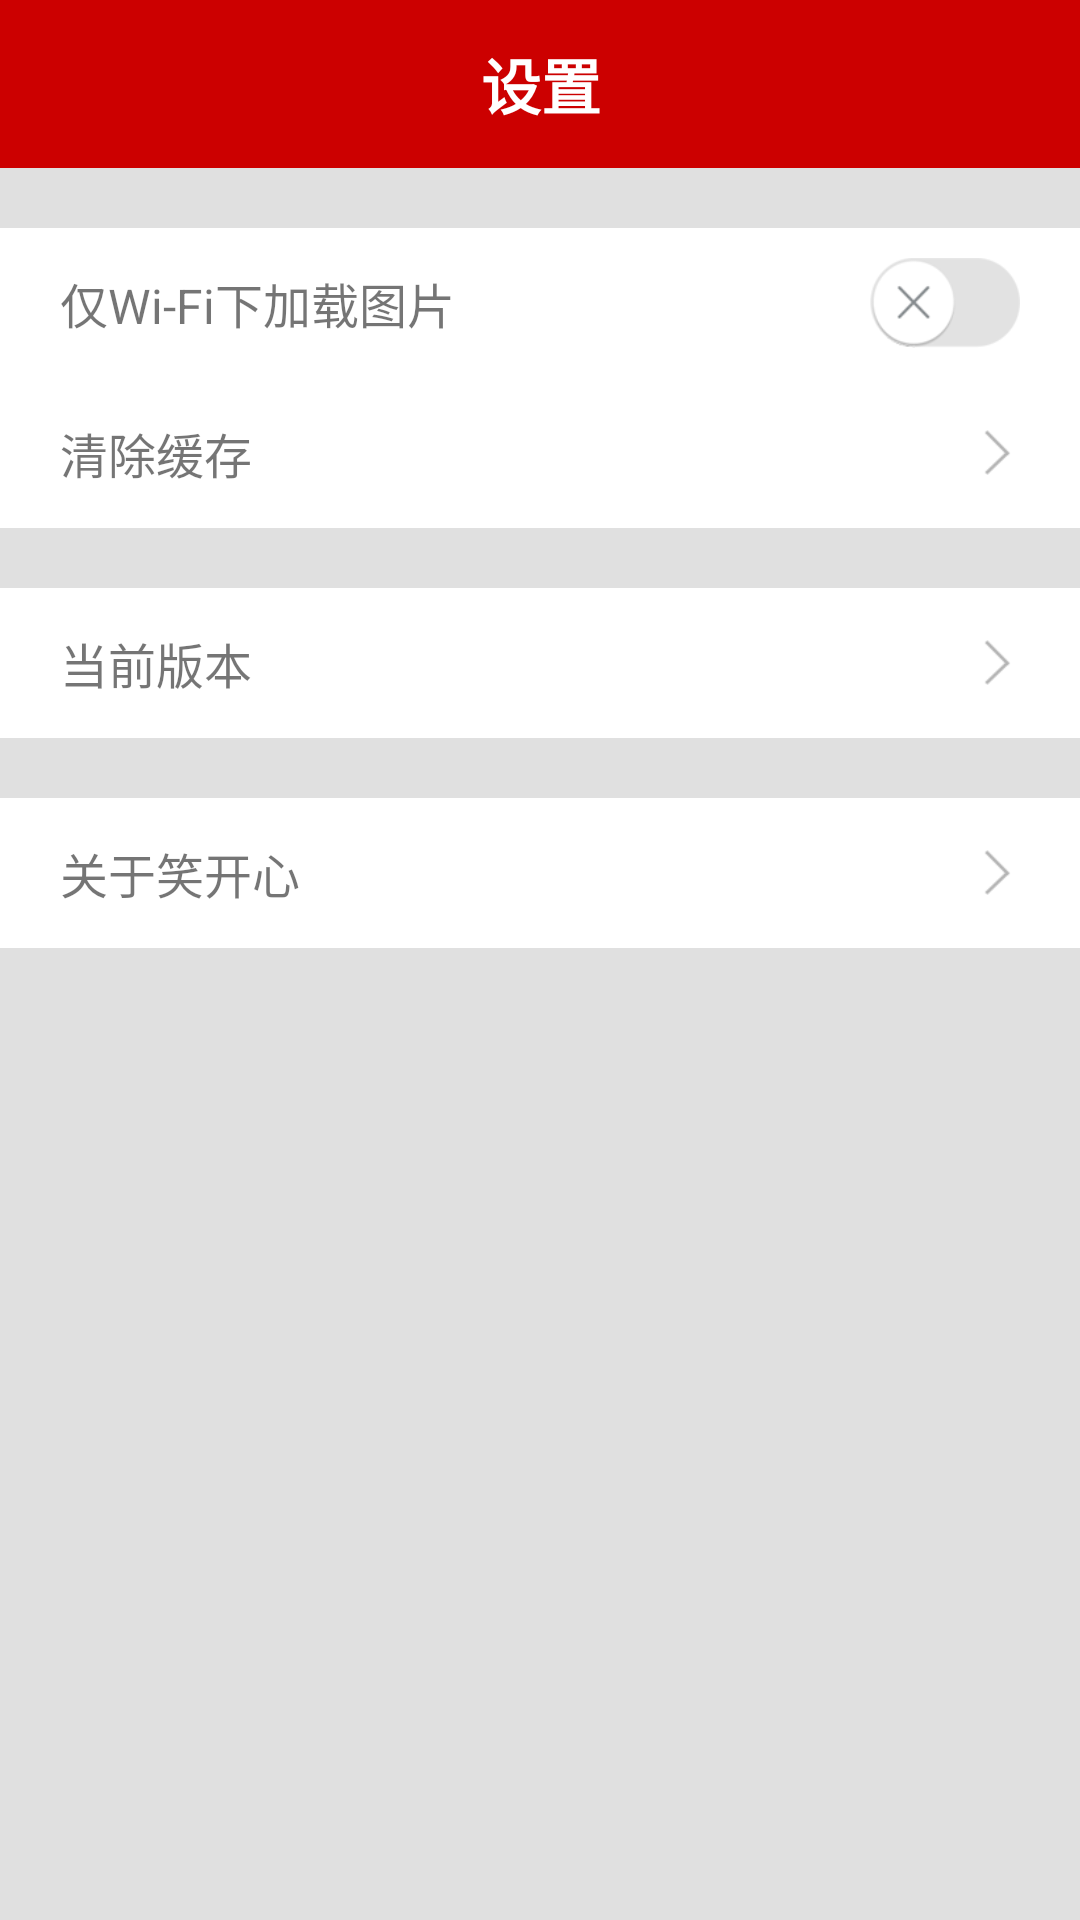

Screen size 1080 x 1920. Icon name, then its center in pixels as (x=x, y=y):
jiantou: (x=997, y=452), (x=997, y=662), (x=997, y=872)
